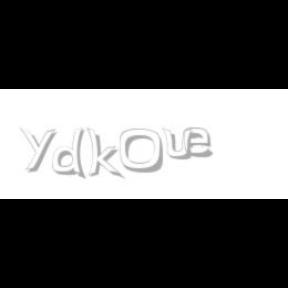O: (120, 128, 164, 174)
d: (53, 128, 90, 180)
e: (184, 128, 216, 158)
k: (86, 128, 124, 180)
u: (162, 128, 196, 160)
y: (20, 128, 60, 172)
